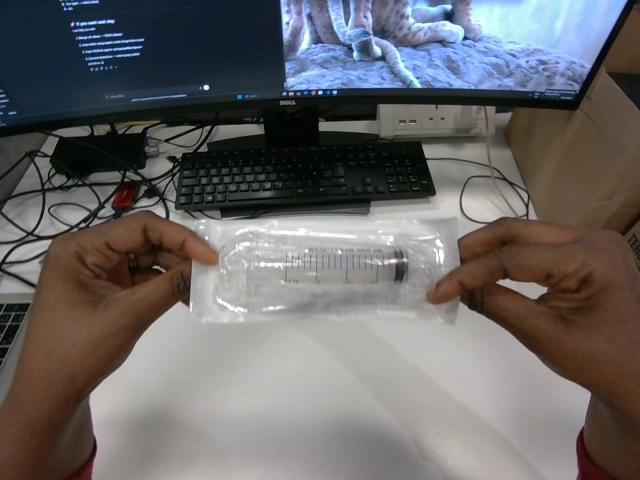syringe: (190, 217, 458, 322)
